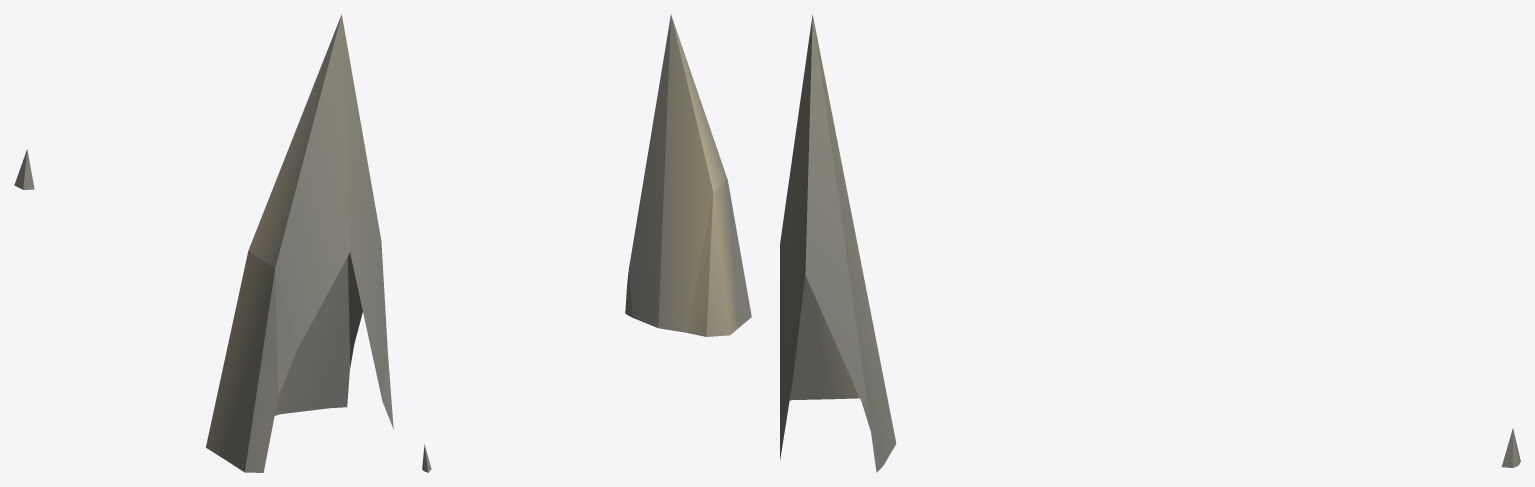
File: bisect-1-6-8.gltf
The picture shows the model from 3 angles, left to right: view 1: azimuth 30°, elevation 25°; view 2: azimuth 150°, elevation 25°; view 3: azimuth 270°, elevation 25°; orthographic projection. The views are drawn at different scales.
Parts seen in each view (by area): view 1: bisect-1-6-8; view 2: bisect-1-6-8; view 3: bisect-1-6-8.
Boxes of the visible parts, <box> form: bisect-1-6-8: <box>14,14,393,472</box>; bisect-1-6-8: <box>422,14,751,472</box>; bisect-1-6-8: <box>780,15,1520,472</box>.
Size of the model in its own units: 2.36 by 6.49 by 9.9.
